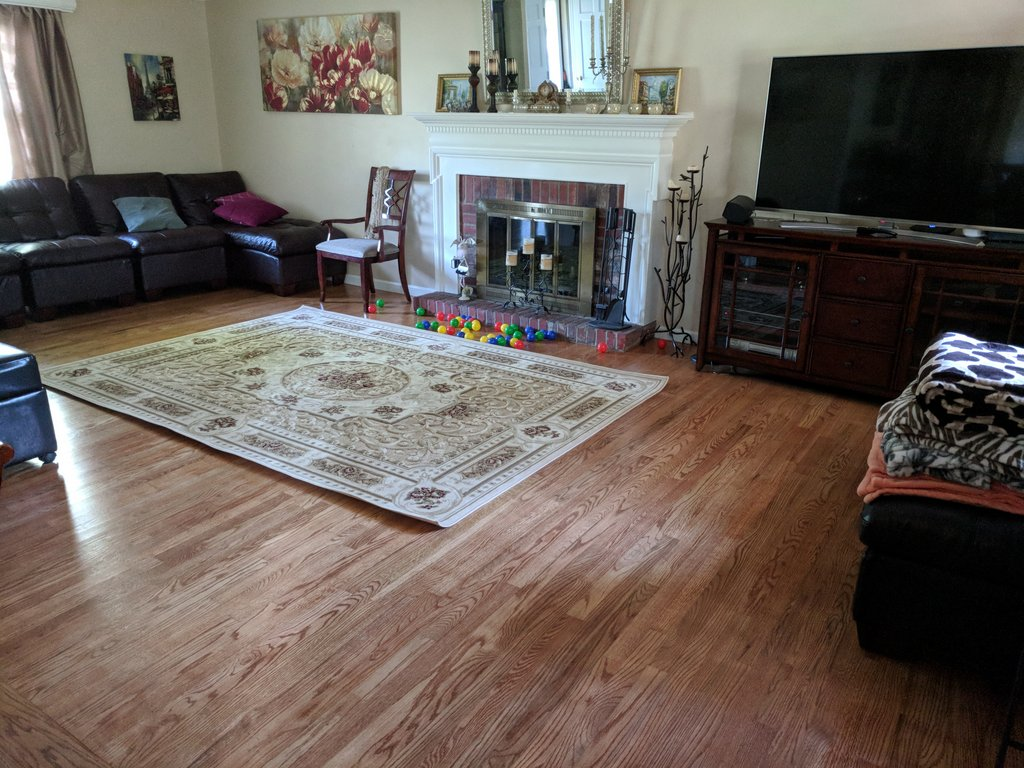ball: (497, 335, 506, 346)
